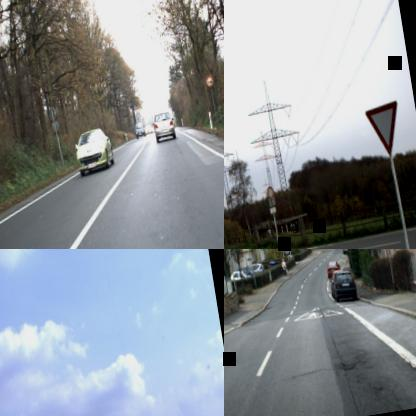give way: (363, 99, 405, 157)
no overtaking (trucks): (205, 74, 214, 88)
no traffic both ways: (266, 184, 274, 198)
